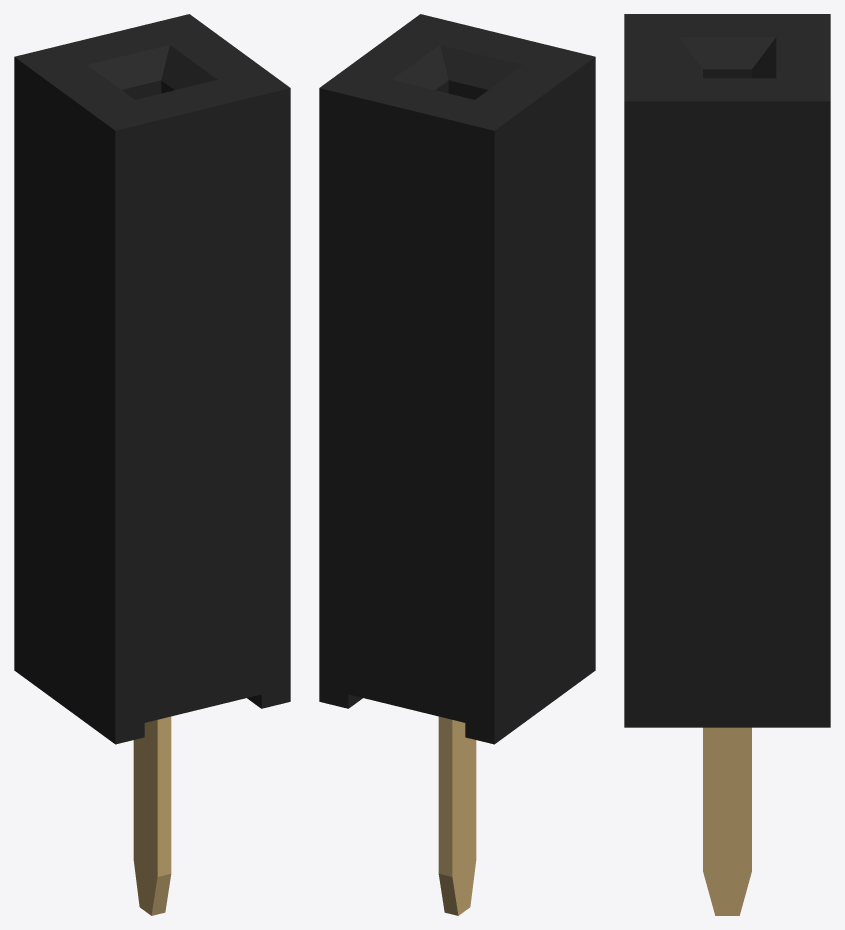
File: PinSocket_1x01_P2.54mm_Vertical.glb
3 views of the same model, side by side, from view 1: azimuth 30°, elevation 25°; view 2: azimuth 150°, elevation 25°; view 3: azimuth 270°, elevation 25° (orthographic). The views are drawn at different scales.
Parts seen in each view (by area): view 1: =>[0:1:1:3]; view 2: =>[0:1:1:3]; view 3: =>[0:1:1:3].
Boxes of the visible parts, bbox=[...] form: =>[0:1:1:3]: bbox=[14, 14, 290, 915]; =>[0:1:1:3]: bbox=[319, 14, 595, 915]; =>[0:1:1:3]: bbox=[624, 14, 830, 915].
Bounding box in the file's own units: 0.00254 × 0.0116 × 0.00254.
